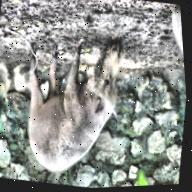boar: (7, 18, 145, 181)
